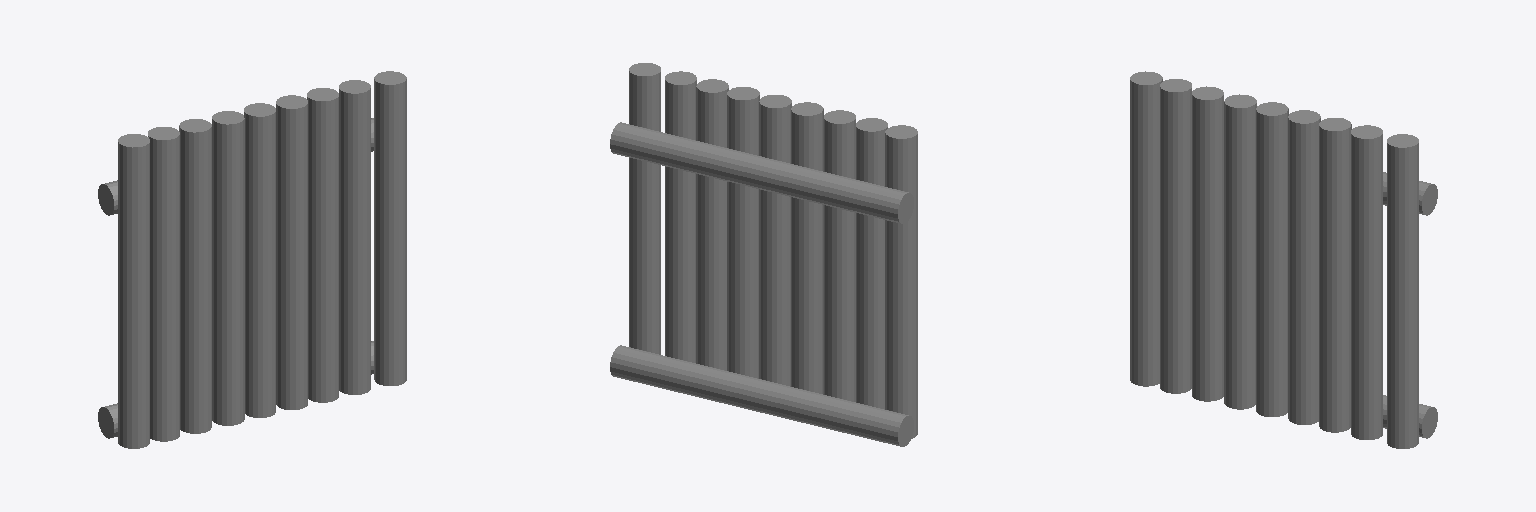
The model's file is log_fence.obj.
The picture shows the model from 3 angles: view 1: azimuth 30°, elevation 25°; view 2: azimuth 150°, elevation 25°; view 3: azimuth 330°, elevation 25°; orthographic projection.
Parts seen in each view (by area): view 1: Cylinder; view 2: Cylinder; view 3: Cylinder.
Part boxes in pixels (x1,y1,x2,y2): Cylinder: (98, 71, 406, 448); Cylinder: (610, 63, 917, 446); Cylinder: (1130, 71, 1437, 448).
Bounding box in the file's own units: 2.21 × 2.22 × 0.3732.